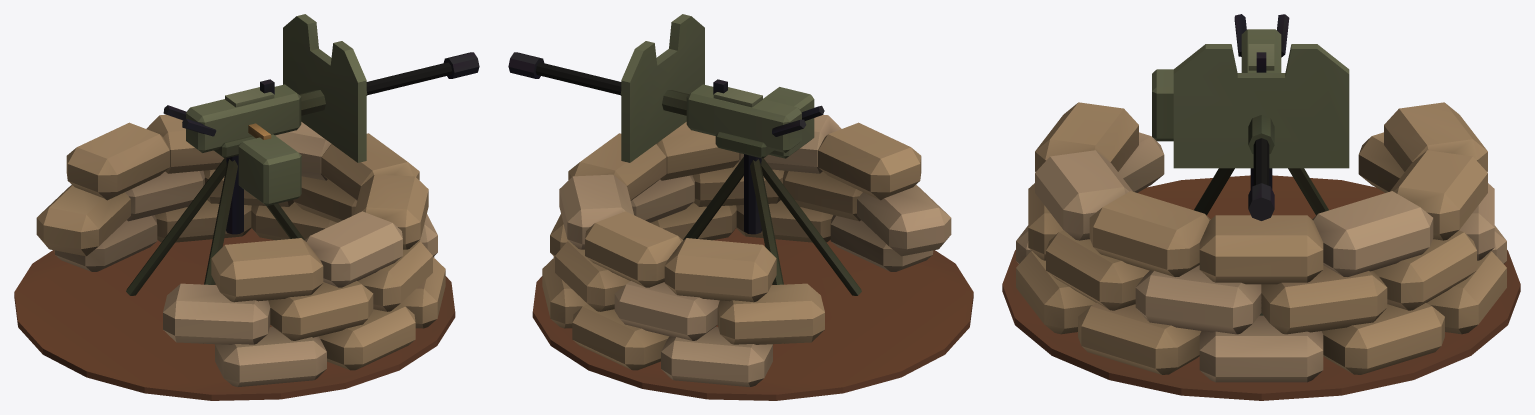
File: prop.hmg-nest.glb
3 views of the same model, side by side, from view 1: azimuth 30°, elevation 25°; view 2: azimuth 150°, elevation 25°; view 3: azimuth 270°, elevation 25° (orthographic). The views are drawn at different scales.
Parts seen in each view (by area): view 1: body, gun; view 2: body, gun; view 3: body, gun.
Boxes of the visible parts, box(x1,y1,x2,y2) form: body: box(14, 114, 455, 400); gun: box(163, 14, 479, 205); body: box(532, 114, 973, 400); gun: box(508, 14, 824, 162); body: box(1002, 102, 1520, 400); gun: box(1152, 14, 1349, 220).
Size of the model in its own units: 2.92 by 1.64 by 2.6.
